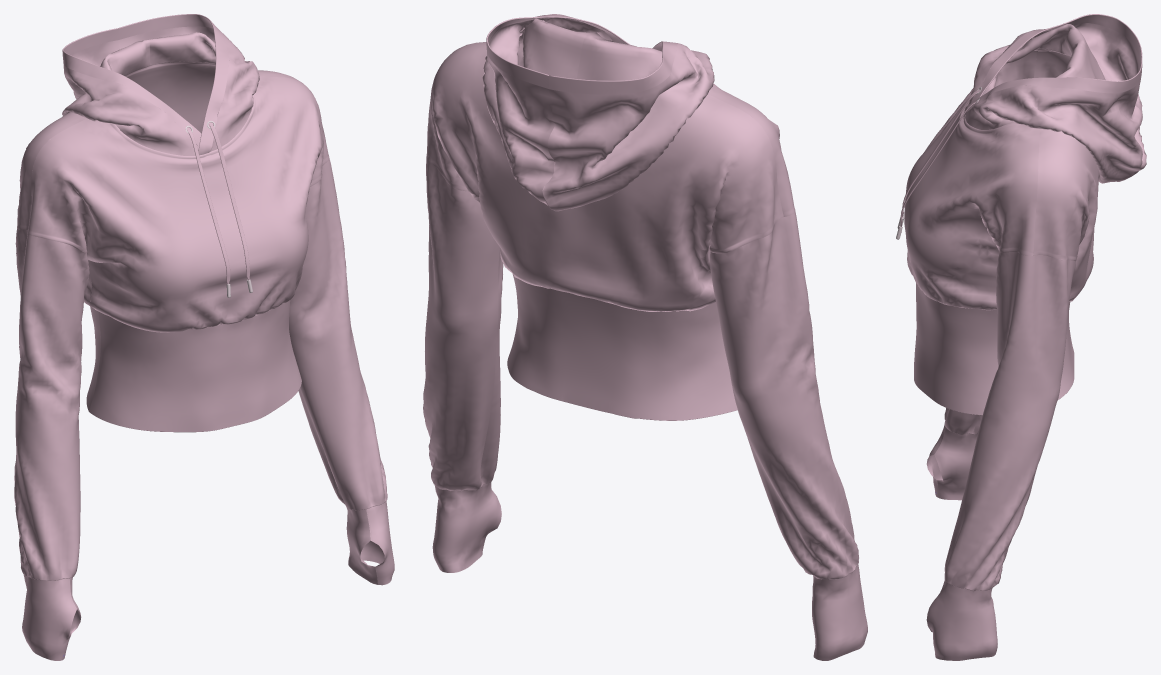
File: pink_drawstring_hooded_sweatshirt.glb
3 views of the same model, side by side, from view 1: azimuth 30°, elevation 25°; view 2: azimuth 150°, elevation 25°; view 3: azimuth 270°, elevation 25° (orthographic). The views are drawn at different scales.
Visible parts, largest first — view 1: Object_7, Object_10, Object_9, Object_8, Object_12, Object_11, Object_6; view 2: Object_6, Object_9, Object_12, Object_10, Object_8, Object_11, Object_7; view 3: Object_8, Object_7, Object_12, Object_11, Object_10, Object_6, Object_9.
Boxes of the visible parts, x1,y1,x2,y2 form: Object_7: (28, 77, 329, 332); Object_10: (86, 14, 301, 432); Object_9: (14, 229, 89, 580); Object_8: (289, 159, 387, 510); Object_12: (22, 40, 394, 660); Object_11: (62, 26, 259, 151); Object_6: (17, 61, 301, 306); Object_6: (426, 44, 783, 311); Object_9: (710, 211, 858, 579); Object_12: (432, 35, 867, 660); Object_10: (486, 14, 737, 420); Object_8: (423, 156, 503, 491); Object_11: (482, 14, 677, 208); Object_7: (456, 42, 795, 216); Object_8: (944, 252, 1075, 590); Object_7: (904, 48, 1039, 310); Object_12: (900, 23, 1146, 660); Object_11: (965, 14, 1146, 183); Object_10: (914, 56, 1142, 415); Object_6: (1033, 48, 1098, 301); Object_9: (944, 408, 982, 434).
Bounding box in the file's own units: 503 × 715 × 305.
Materials: 5 (1 with a texture image).
